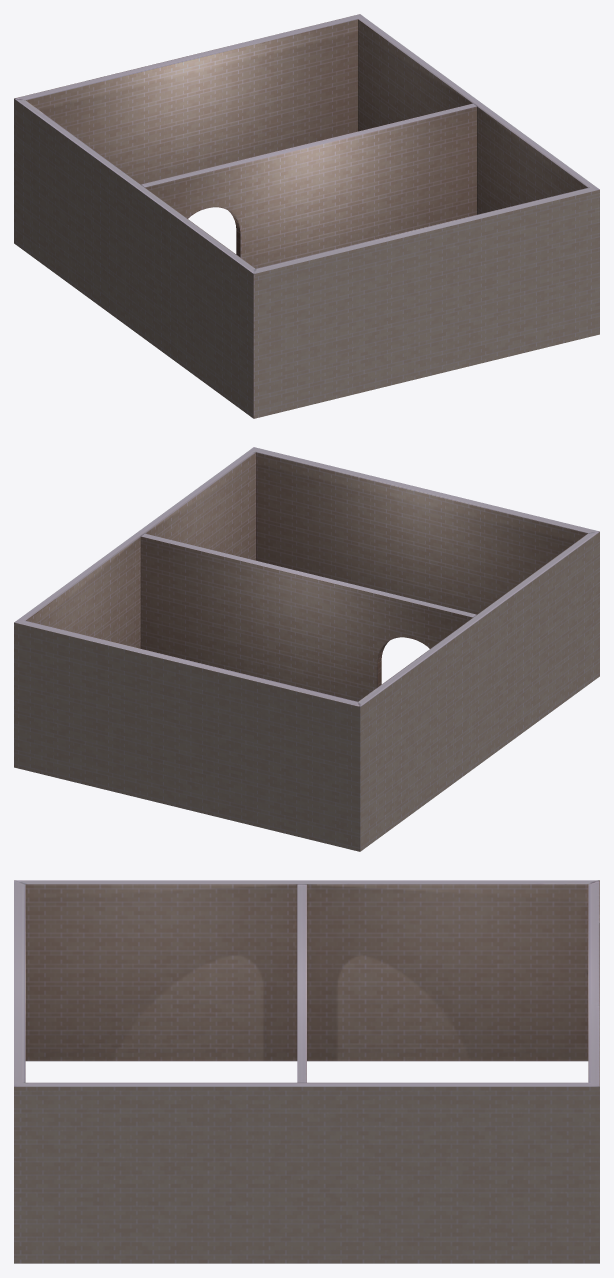
Rendered from walls.dae.
The picture shows the model from 3 angles, top to bottom: view 1: azimuth 30°, elevation 25°; view 2: azimuth 150°, elevation 25°; view 3: azimuth 270°, elevation 25°; orthographic projection. The views are drawn at different scales.
Visible parts, largest first — view 1: Cube; view 2: Cube; view 3: Cube.
Part boxes in pixels (x1,y1,x2,y2): Cube: (14, 14, 599, 418); Cube: (14, 447, 599, 851); Cube: (14, 880, 599, 1263).
Bounding box in the file's own units: 5 × 6 × 2.
Materials: 1 (1 with a texture image).
